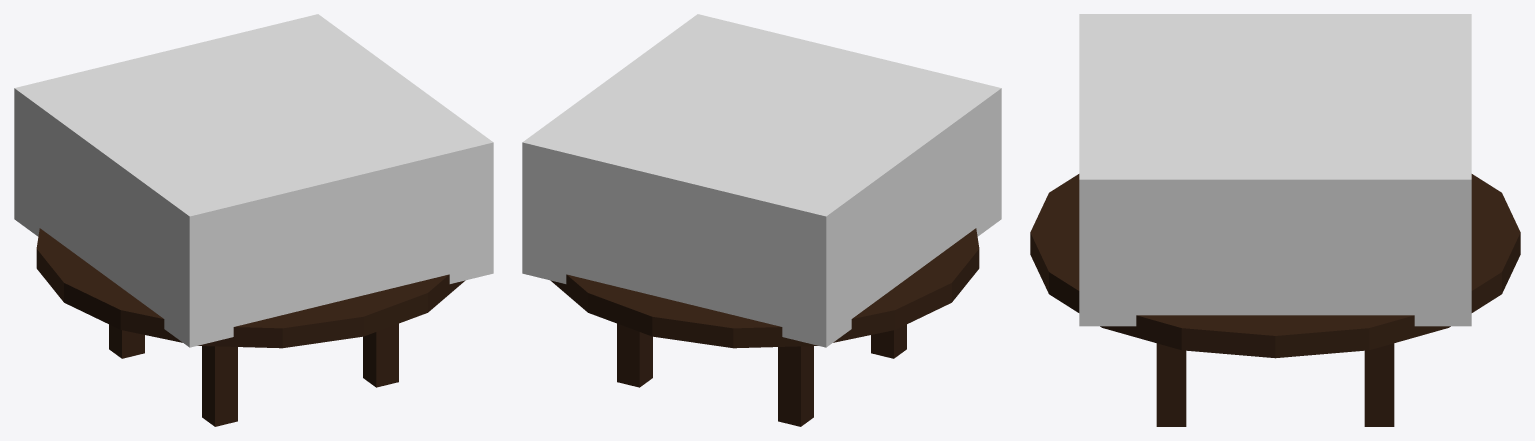
The model's file is LowTable.fbx.
3 renders of one model, left to right at view 1: azimuth 30°, elevation 25°; view 2: azimuth 150°, elevation 25°; view 3: azimuth 270°, elevation 25°, orthographic. The views are drawn at different scales.
Visible parts, largest first — view 1: COL_LowTable_0, LowTable; view 2: COL_LowTable_0, LowTable; view 3: COL_LowTable_0, LowTable.
Boxes of the visible parts, left/top/right/bottom form: COL_LowTable_0: left=14, top=14, right=493, bottom=347; LowTable: left=36, top=228, right=465, bottom=426; COL_LowTable_0: left=522, top=14, right=1001, bottom=347; LowTable: left=550, top=228, right=979, bottom=426; COL_LowTable_0: left=1079, top=14, right=1471, bottom=326; LowTable: left=1030, top=174, right=1520, bottom=426.
Bounding box in the file's own units: 1 × 0.63 × 1.
